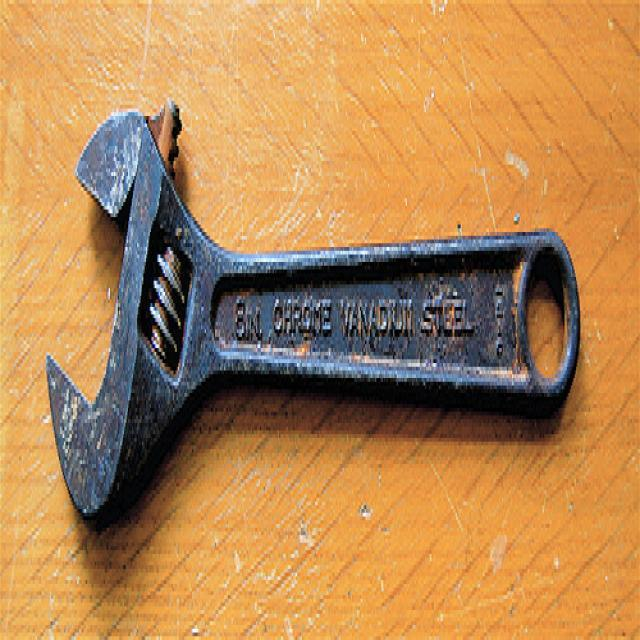wrench: (42, 83, 584, 540)
